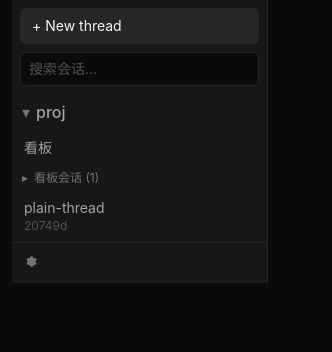
Test: ThreadSidebar 看板 › 把卡片会话收进默认折叠的「看板会话」小节，展开后可见
Expected: the text "看板 · card-1" is not shown
Click the button labelled "▸ 看板会话 (1)".
click(132, 178)  # box [12,166,251,190]
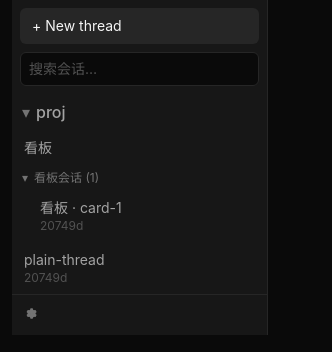
Now the text "看板 · card-1" is shown, box [40,198,122,218]
